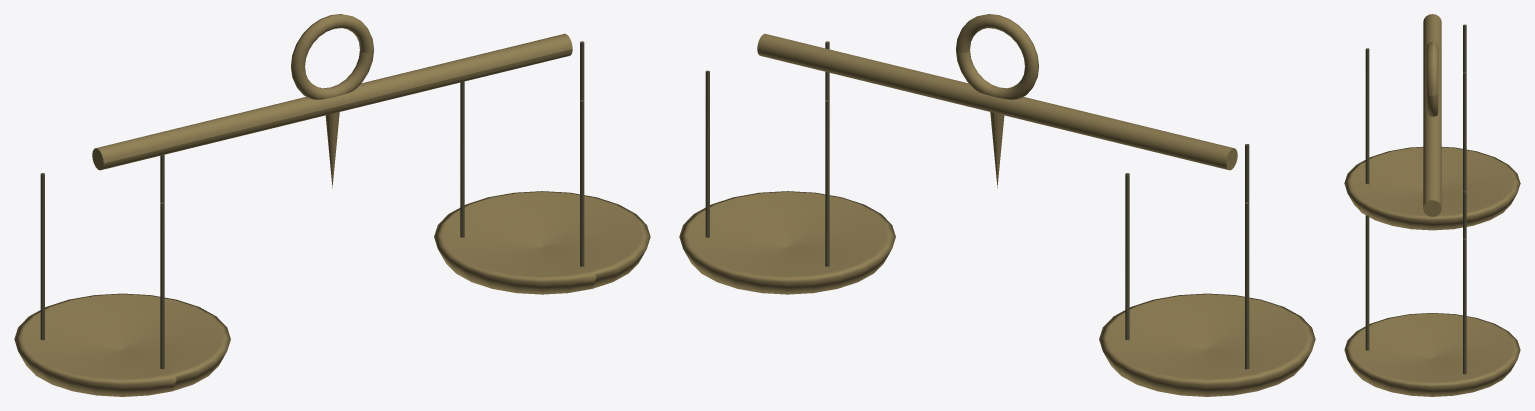
The picture shows the model from 3 angles, left to right: view 1: azimuth 30°, elevation 25°; view 2: azimuth 150°, elevation 25°; view 3: azimuth 270°, elevation 25°; orthographic projection. The views are drawn at different scales.
Visible parts, largest first — view 1: OBJ-014 — DEMO NON_VALIDE; view 2: OBJ-014 — DEMO NON_VALIDE; view 3: OBJ-014 — DEMO NON_VALIDE.
Boxes of the visible parts, x1,y1,x2,y2 form: OBJ-014 — DEMO NON_VALIDE: [14, 14, 650, 396]; OBJ-014 — DEMO NON_VALIDE: [679, 14, 1315, 396]; OBJ-014 — DEMO NON_VALIDE: [1344, 14, 1520, 396].
Size of the model in its own units: 2 by 0.9228 by 0.6179.
